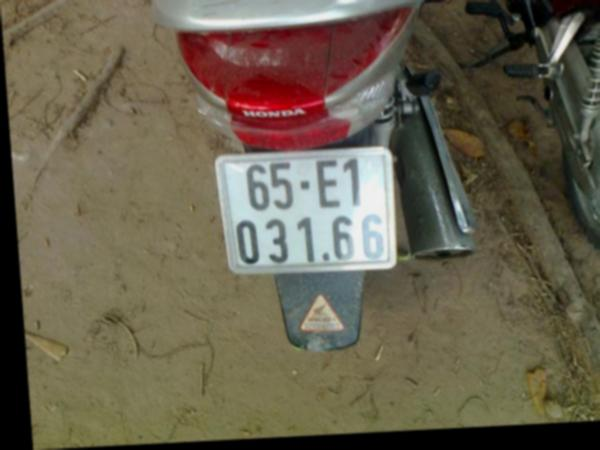License_Plate: (216, 149, 394, 276)
